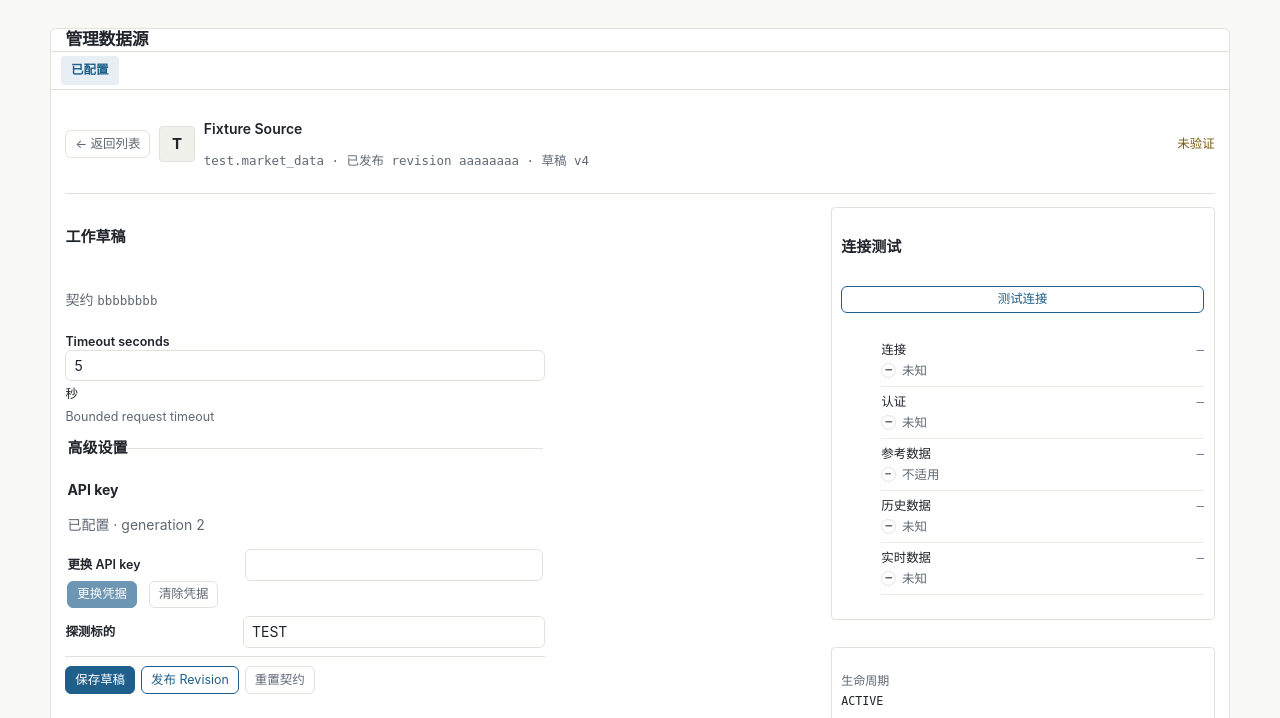
Test: retries an indeterminate Draft response with the same command UUID and exposes CAS conflict
This screenshot has width=1280, height=718.
Click the button "保存草稿": (100, 680) x1=65 y1=666 x2=135 y2=694
(page scrolled)
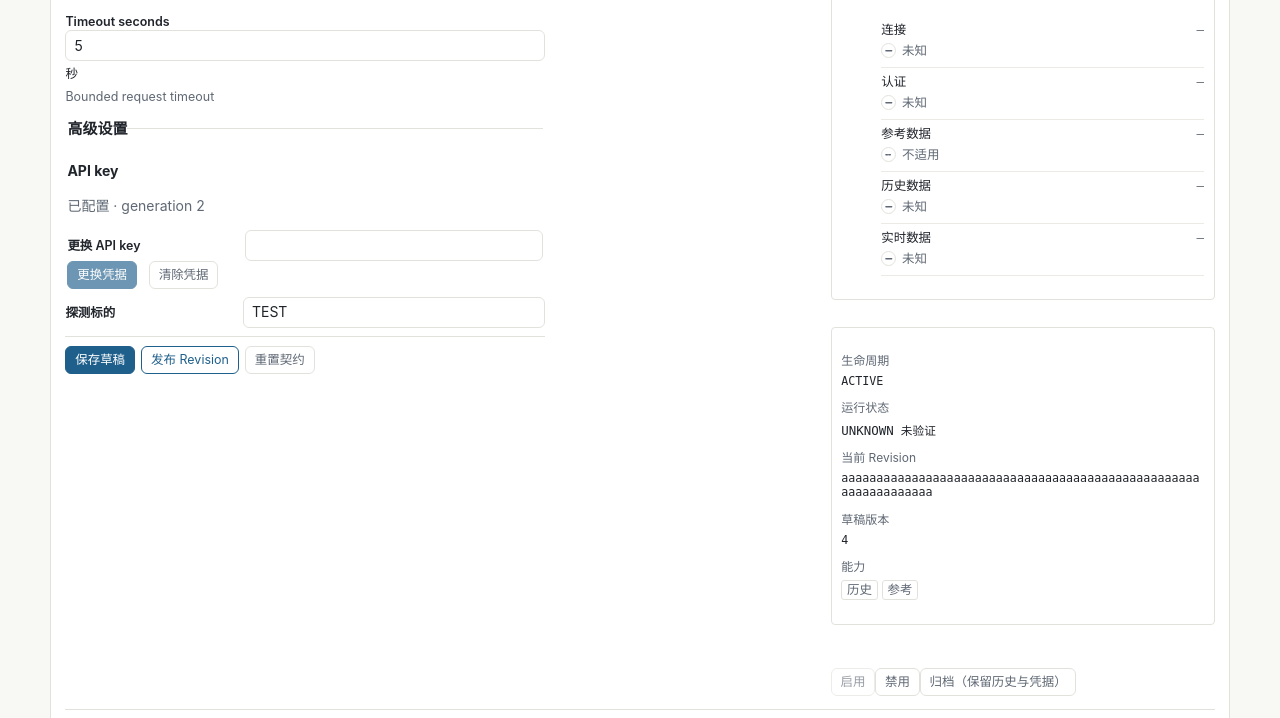
Click the button "保存草稿": (100, 360) x1=65 y1=346 x2=135 y2=374
(page scrolled)
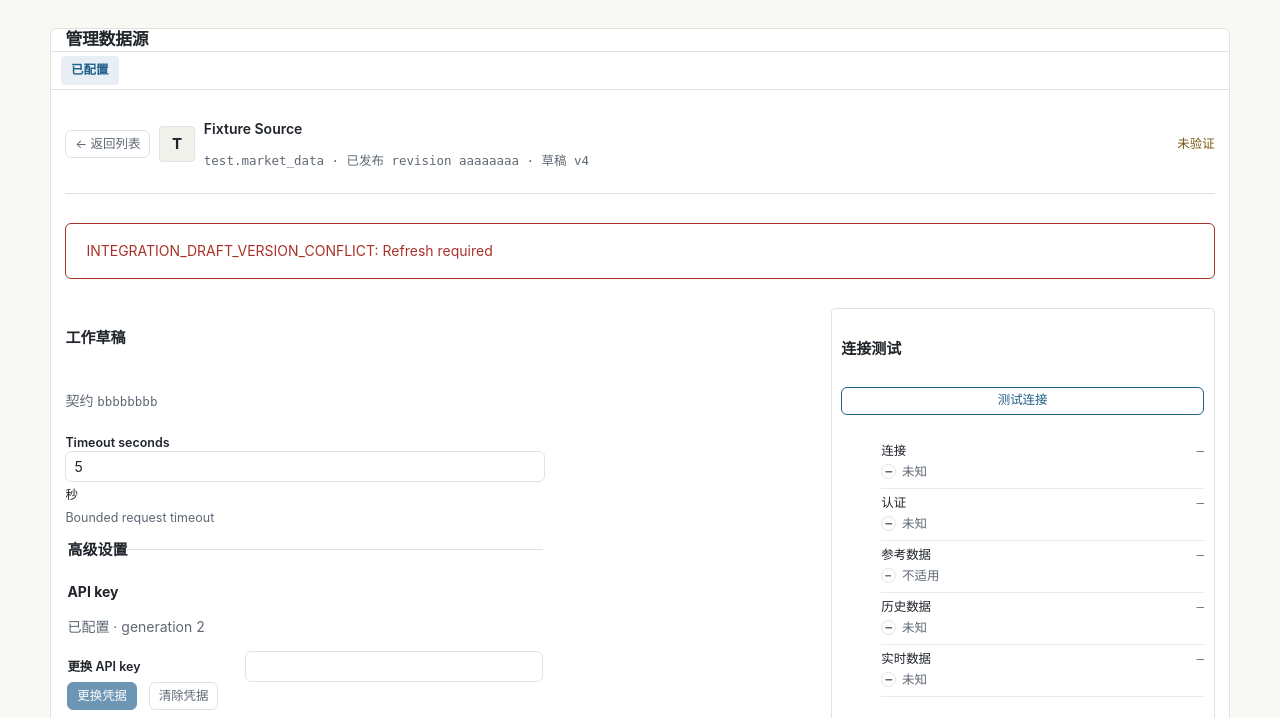
expect the message shows "INTEGRATION_DRAFT_VERSION_CONFLICT": met, box x1=86 y1=242 x2=493 y2=259
